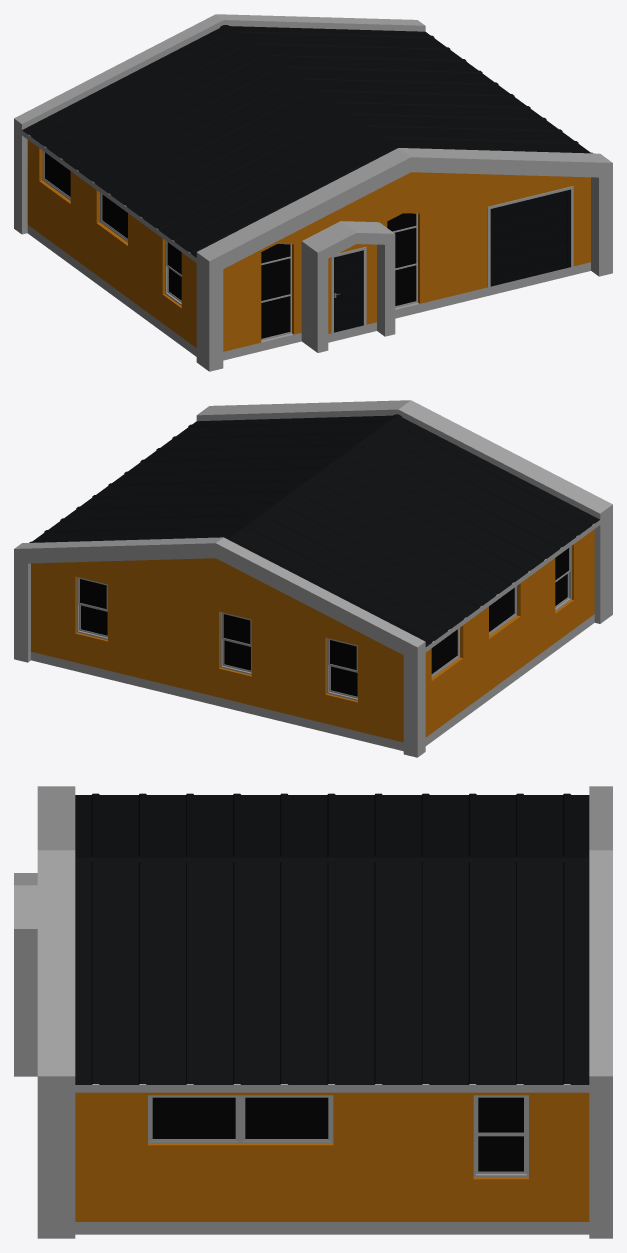
Rendered from House1.fbx.
3 renders of one model, top to bottom at view 1: azimuth 30°, elevation 25°; view 2: azimuth 150°, elevation 25°; view 3: azimuth 270°, elevation 25°, orthographic. The views are drawn at different scales.
Visible parts, largest first — view 1: Roof, WallFront, WallFrontFrame, WallRight, WallFrontDoor (×2), WallBackFrame, GarageDoor, Foundation, FrontGlass, Door, RoofCorner, RoofFinish (+6 smaller); view 2: Roof, WallBack, WallBackFrame, WallRight, WallFrontFrame, Foundation, RoofCorner, VerticalGlass007, VerticalGlass006, VerticalGlass008, RoofFinish, HorizontalGlass002 (+5 smaller); view 3: Roof, WallLeft, WallFrontFrame, WallBackFrame, Foundation, WallFrontDoor, RoofFinish, RoofCorner, HorizontalGlass003, HorizontalGlass004, VerticalGlass009, VerticalWindow005 (+2 smaller).
Boxes of the visible parts, x1,y1,x2,y2 form: Roof: [22, 26, 592, 257]; WallFront: [223, 172, 590, 351]; WallFrontFrame: [196, 148, 612, 362]; WallRight: [27, 140, 196, 347]; WallFrontDoor (×2): [301, 221, 395, 344]; WallBackFrame: [14, 14, 425, 225]; GarageDoor: [490, 189, 570, 286]; Foundation: [14, 220, 612, 371]; FrontGlass: [261, 213, 415, 338]; Door: [334, 250, 363, 332]; RoofCorner: [220, 25, 396, 151]; RoofFinish: [22, 130, 196, 262]; Roof: [29, 415, 599, 646]; WallBack: [31, 558, 403, 742]; WallBackFrame: [14, 537, 425, 748]; WallRight: [425, 529, 594, 737]; WallFrontFrame: [196, 400, 612, 615]; Foundation: [14, 606, 612, 757]; RoofCorner: [225, 414, 401, 541]; VerticalGlass007: [223, 614, 250, 670]; VerticalGlass006: [330, 640, 357, 696]; VerticalGlass008: [80, 579, 107, 635]; RoofFinish: [425, 520, 600, 652]; HorizontalGlass002: [431, 629, 457, 673]; Roof: [75, 793, 589, 1084]; WallLeft: [75, 1092, 589, 1221]; WallFrontFrame: [37, 786, 75, 1225]; WallBackFrame: [589, 786, 612, 1225]; Foundation: [14, 1063, 612, 1238]; WallFrontDoor: [14, 873, 37, 1063]; RoofFinish: [75, 1084, 589, 1092]; RoofCorner: [75, 856, 589, 862]; HorizontalGlass003: [245, 1097, 328, 1138]; HorizontalGlass004: [152, 1097, 235, 1138]; VerticalGlass009: [478, 1097, 523, 1171]; VerticalWindow005: [473, 1095, 528, 1177].
Bounding box in the file's own units: 11675 × 4565 × 10180.
